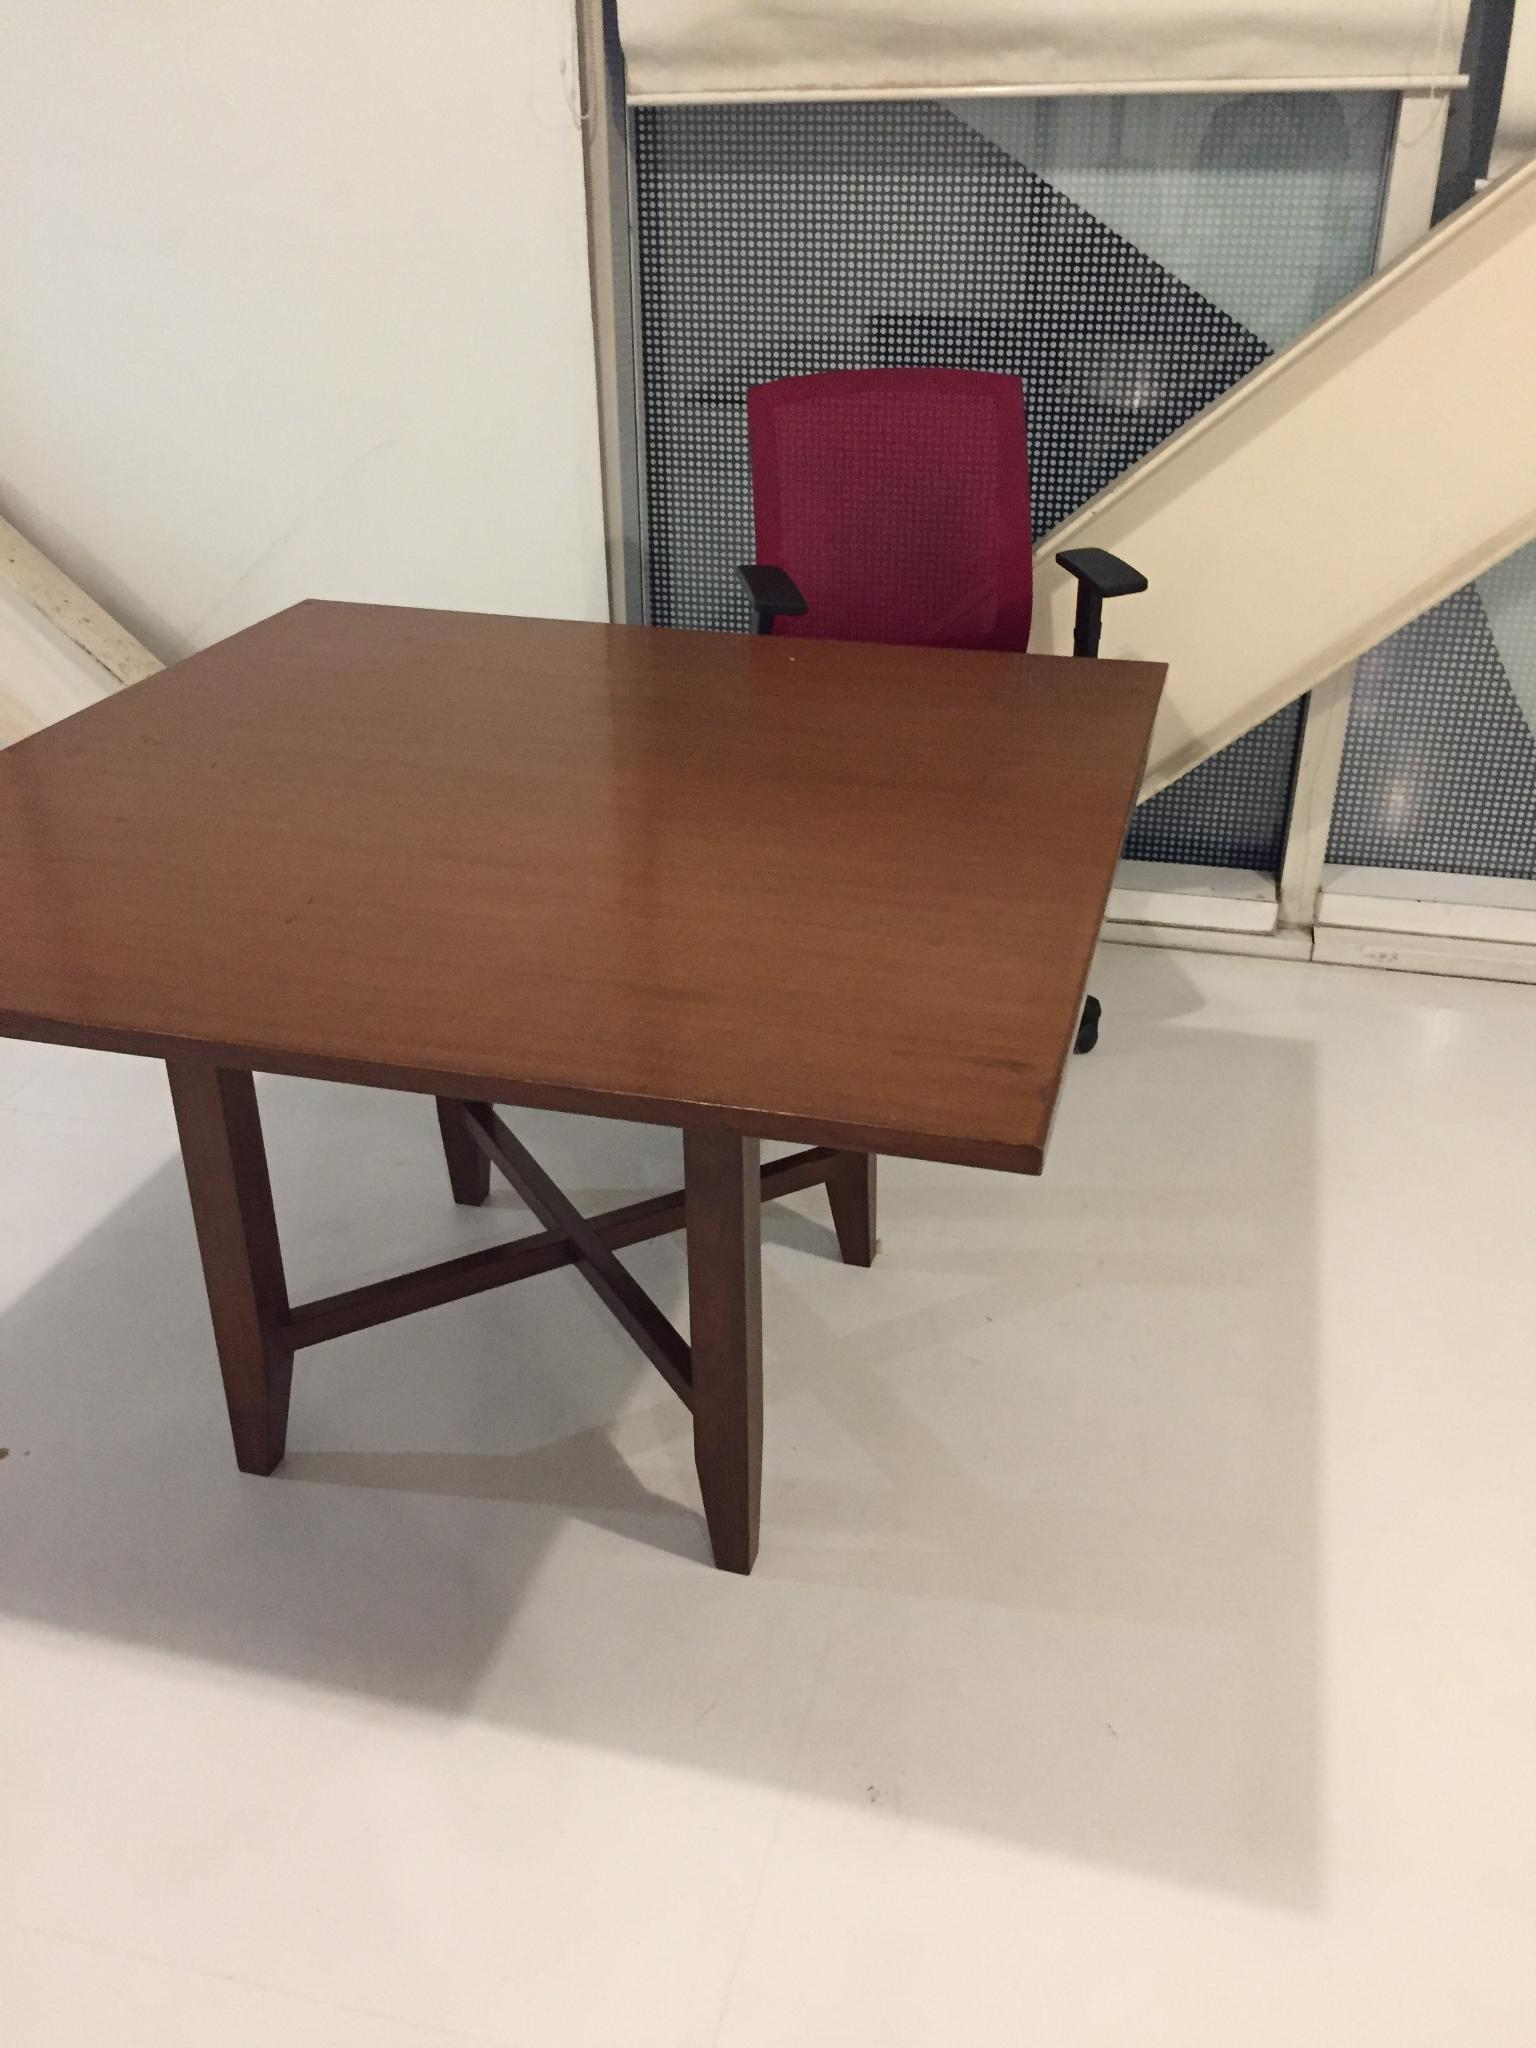chair: (716, 381, 1146, 1071)
